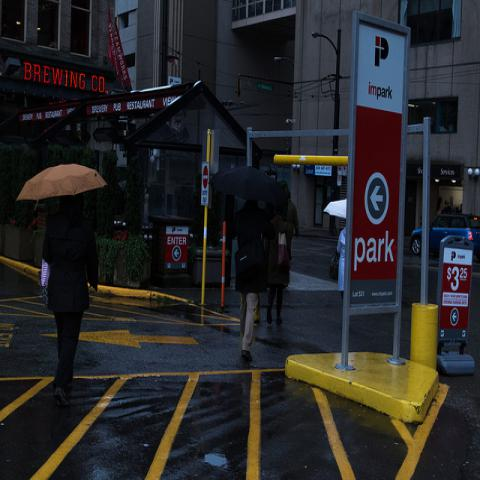car: (410, 212, 480, 260)
